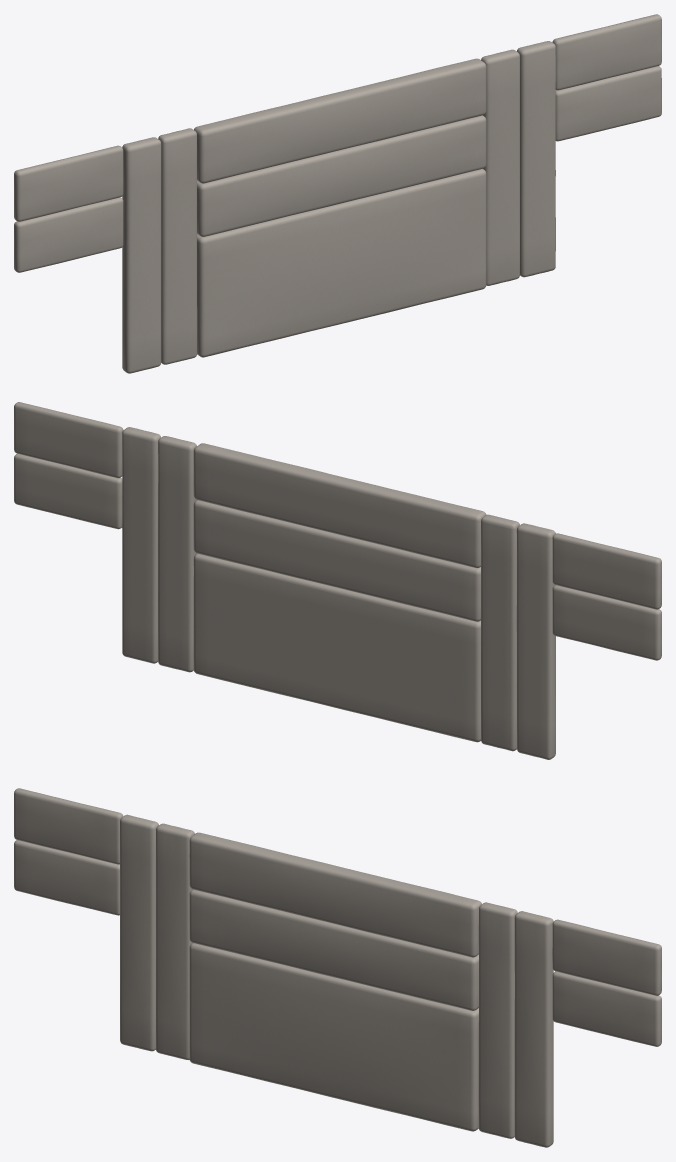
Rendered from stanza-headboard-panels-01-mobile.glb.
The picture shows the model from 3 angles, top to bottom: view 1: azimuth 30°, elevation 25°; view 2: azimuth 150°, elevation 25°; view 3: azimuth 330°, elevation 25°; orthographic projection.
Parts seen in each view (by area): view 1: center_panel_bottom, center_panel_top, center_panel_middle, strip_left_outer, strip_left_inner, strip_right_outer, strip_right_inner, side_left_top, side_left_bottom, side_right_top, side_right_bottom; view 2: center_panel_bottom, center_panel_top, center_panel_middle, strip_left_outer, strip_right_outer, strip_right_inner, strip_left_inner, side_left_top, side_right_top, side_left_bottom, side_right_bottom; view 3: center_panel_bottom, center_panel_top, center_panel_middle, strip_right_outer, strip_right_inner, strip_left_outer, strip_left_inner, side_right_top, side_right_bottom, side_left_top, side_left_bottom.
Boxes of the visible parts, bbox=[...] form: center_panel_bottom: bbox=[197, 169, 486, 357]; center_panel_top: bbox=[194, 58, 486, 183]; center_panel_middle: bbox=[197, 115, 486, 236]; strip_left_outer: bbox=[122, 137, 161, 373]; strip_left_inner: bbox=[158, 128, 197, 364]; strip_right_outer: bbox=[517, 41, 555, 277]; strip_right_inner: bbox=[481, 49, 519, 285]; side_left_top: bbox=[14, 145, 123, 221]; side_left_bottom: bbox=[14, 197, 123, 272]; side_right_top: bbox=[552, 14, 661, 90]; side_right_bottom: bbox=[555, 66, 661, 141]; center_panel_bottom: bbox=[193, 553, 480, 742]; center_panel_top: bbox=[193, 443, 486, 568]; center_panel_middle: bbox=[193, 500, 480, 621]; strip_left_outer: bbox=[516, 523, 555, 759]; strip_right_outer: bbox=[122, 427, 160, 663]; strip_right_inner: bbox=[158, 436, 196, 672]; strip_left_inner: bbox=[481, 514, 519, 751]; side_left_top: bbox=[552, 533, 661, 609]; side_right_top: bbox=[14, 402, 123, 478]; side_left_bottom: bbox=[552, 585, 661, 660]; side_right_bottom: bbox=[14, 453, 122, 529]; center_panel_bottom: bbox=[189, 943, 478, 1131]; center_panel_top: bbox=[189, 832, 481, 957]; center_panel_middle: bbox=[189, 889, 478, 1010]; strip_right_outer: bbox=[514, 911, 553, 1147]; strip_right_inner: bbox=[478, 902, 517, 1138]; strip_left_outer: bbox=[120, 814, 158, 1051]; strip_left_inner: bbox=[156, 823, 194, 1059]; side_right_top: bbox=[552, 919, 661, 995]; side_right_bottom: bbox=[552, 971, 661, 1046]; side_left_top: bbox=[14, 788, 123, 864]; side_left_bottom: bbox=[14, 840, 119, 915].
Bounding box in the file's own units: 3.6 × 1.21 × 0.1025.
1 material, 1 textured.
